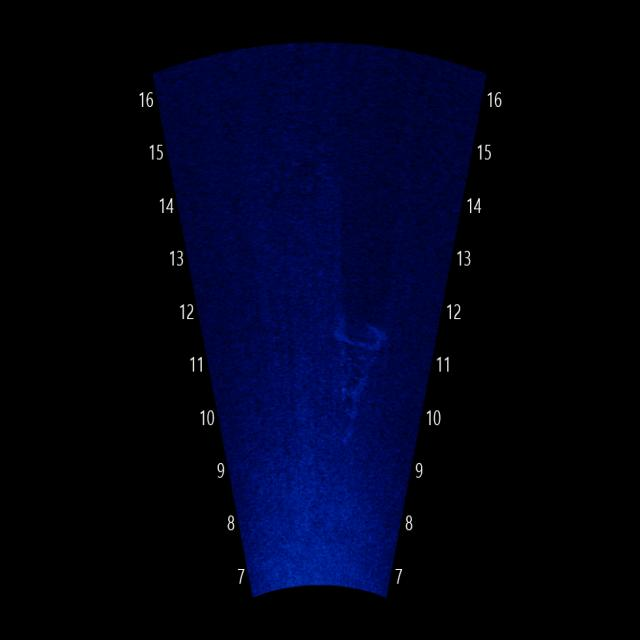triangle: (314, 304, 387, 455)
